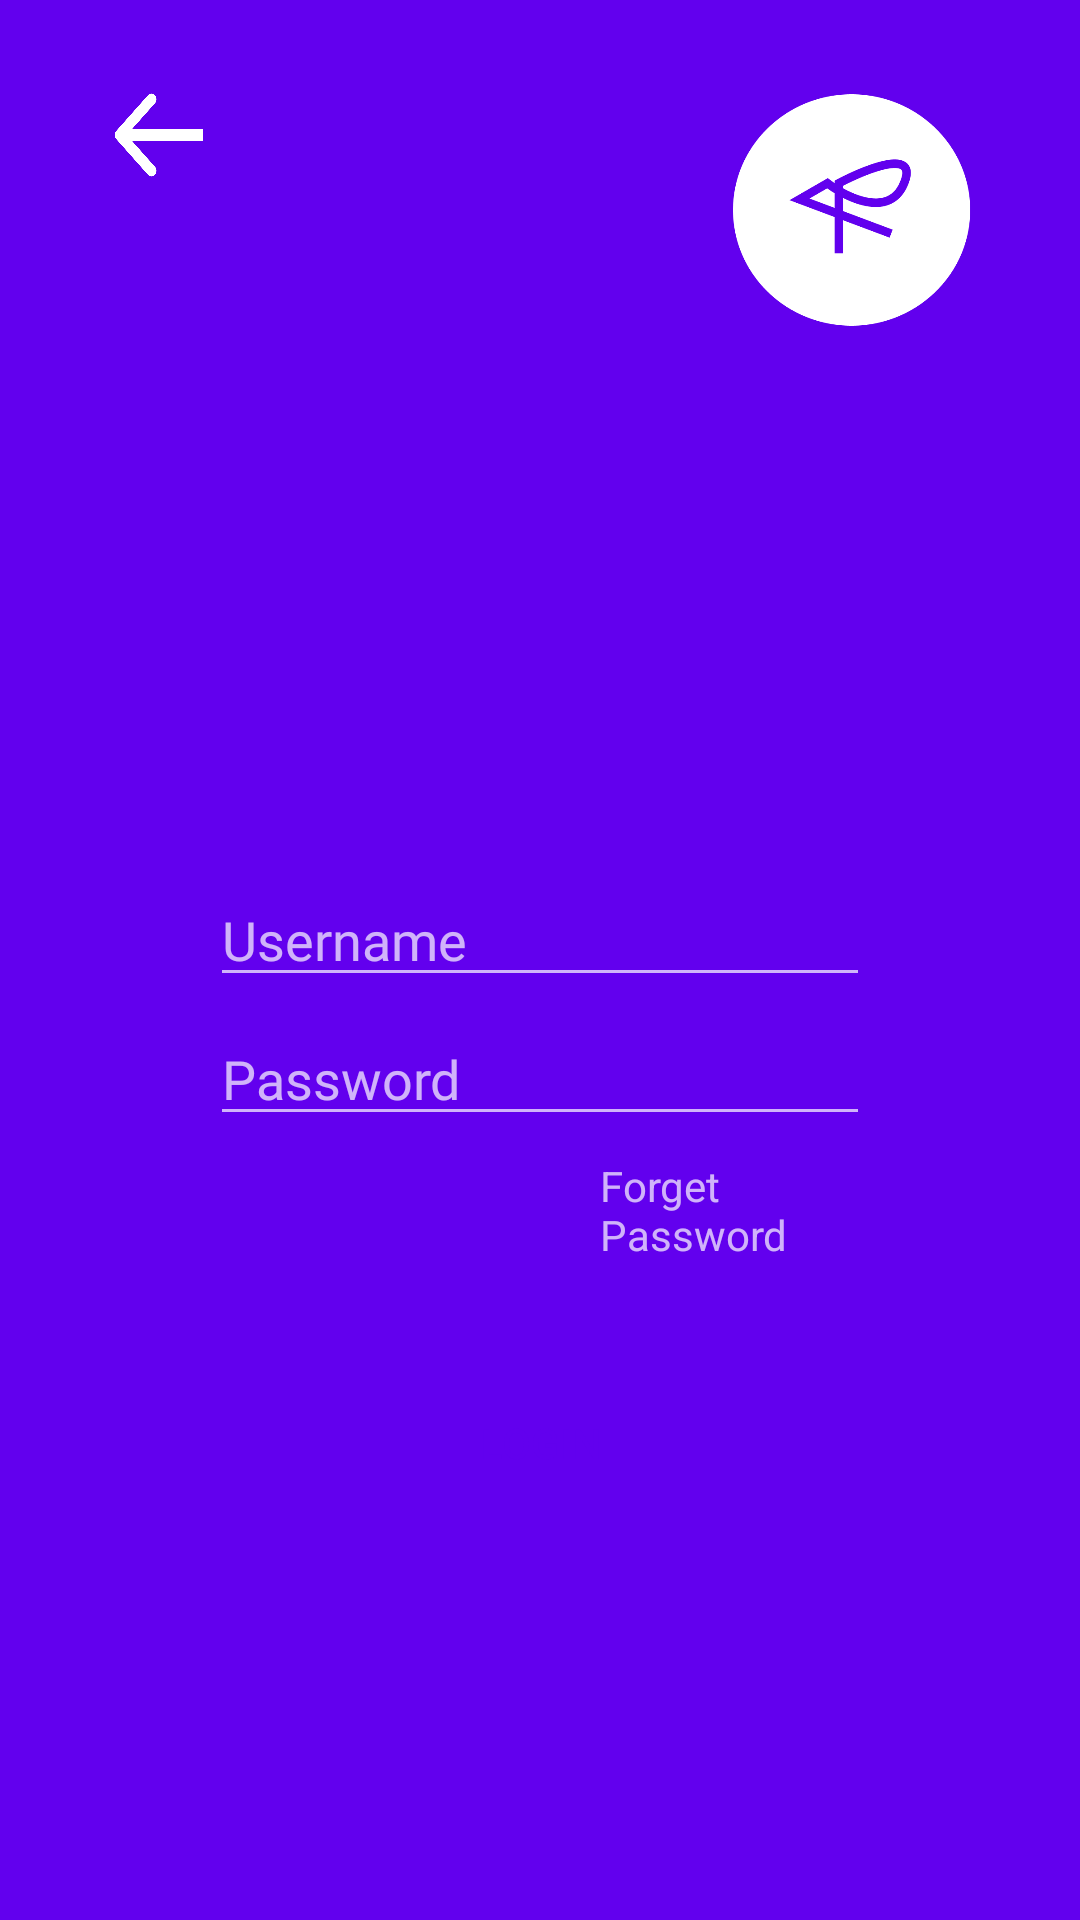

Where to tap for icons on this 1080px×1920px app screen, as point (x, y):
back arrow: point (159, 135)
